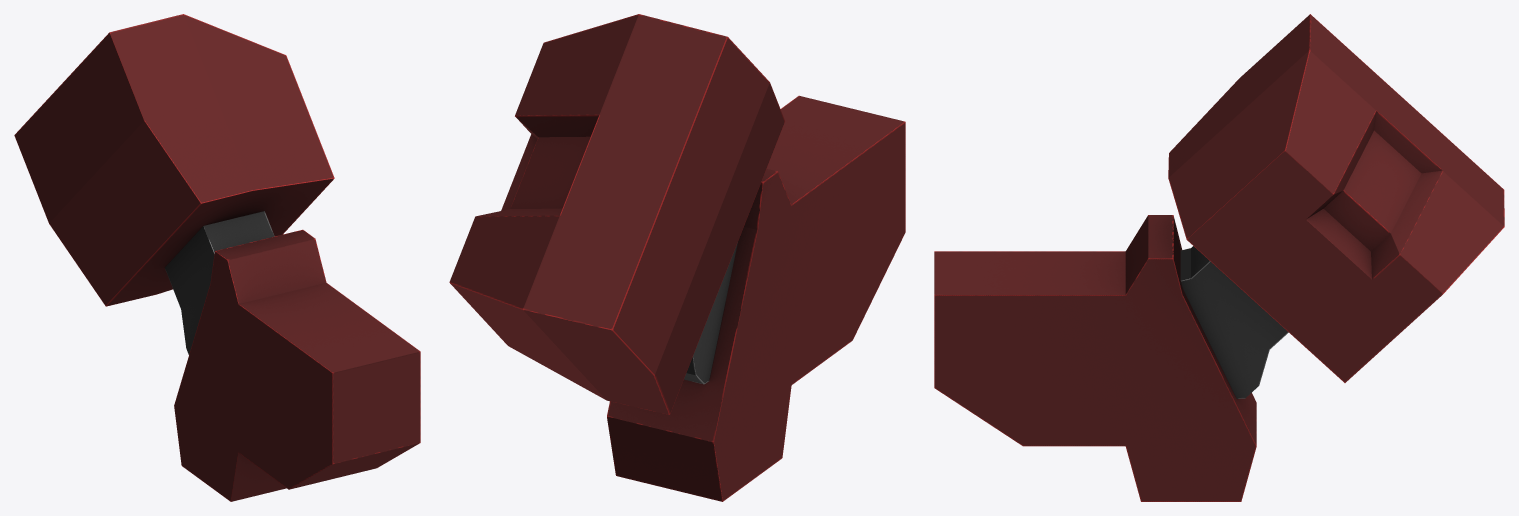
File: playerarm.glb
3 views of the same model, side by side, from view 1: azimuth 30°, elevation 25°; view 2: azimuth 150°, elevation 25°; view 3: azimuth 270°, elevation 25° (orthographic). The views are drawn at different scales.
Visible parts, largest first — view 1: Cube.011; view 2: Cube.011; view 3: Cube.011.
Boxes of the visible parts, x1=… form: Cube.011: x1=14, y1=14, x2=420, y2=501; Cube.011: x1=449, y1=14, x2=905, y2=501; Cube.011: x1=934, y1=14, x2=1504, y2=501.
Size of the model in its own units: 0.9736 by 2.37 by 2.88.
Materials: 1 (1 with a texture image).
